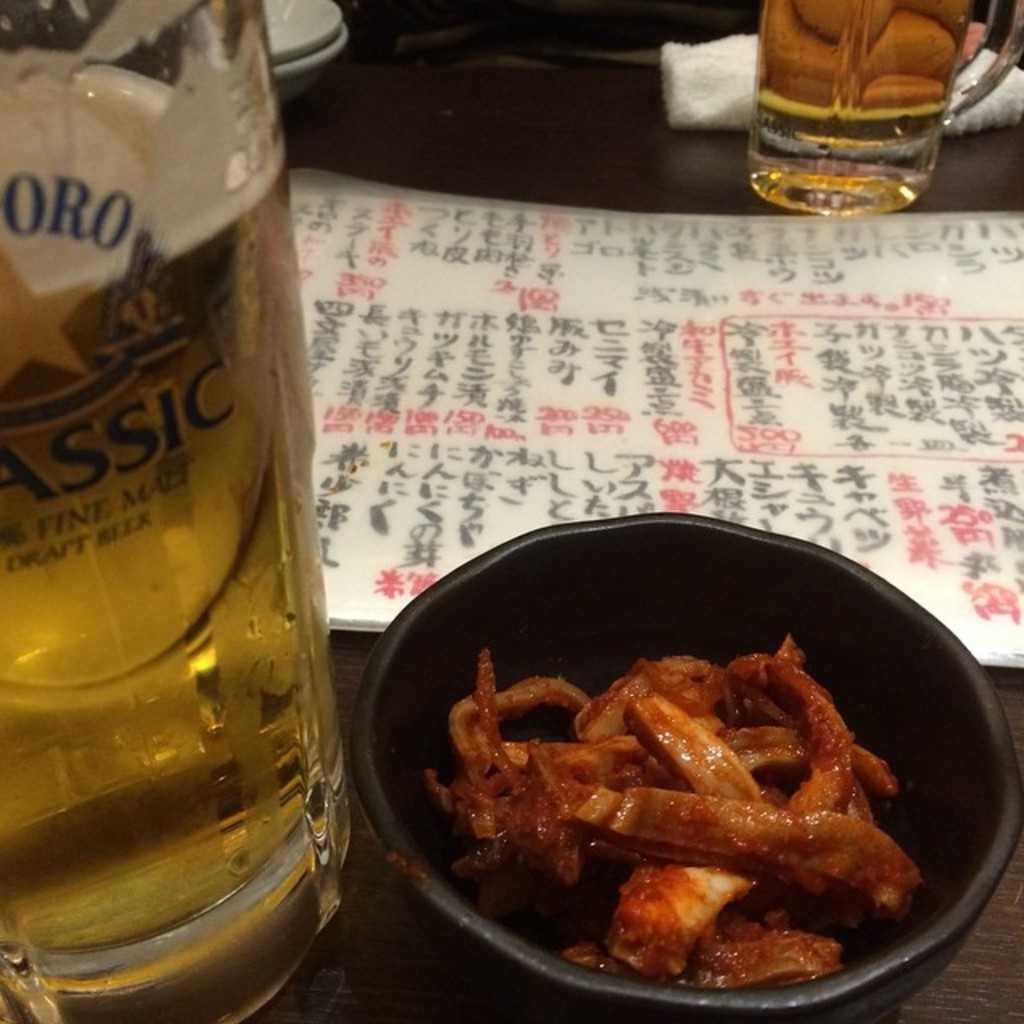Beer: (1, 67, 350, 1003)
